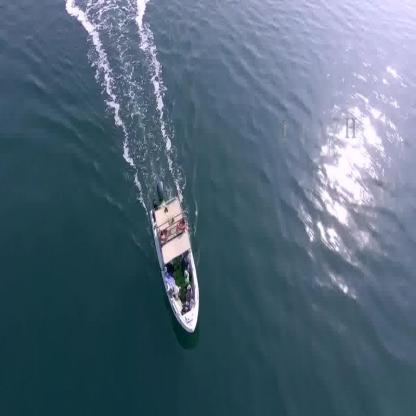Boat: (147, 195, 203, 334)
